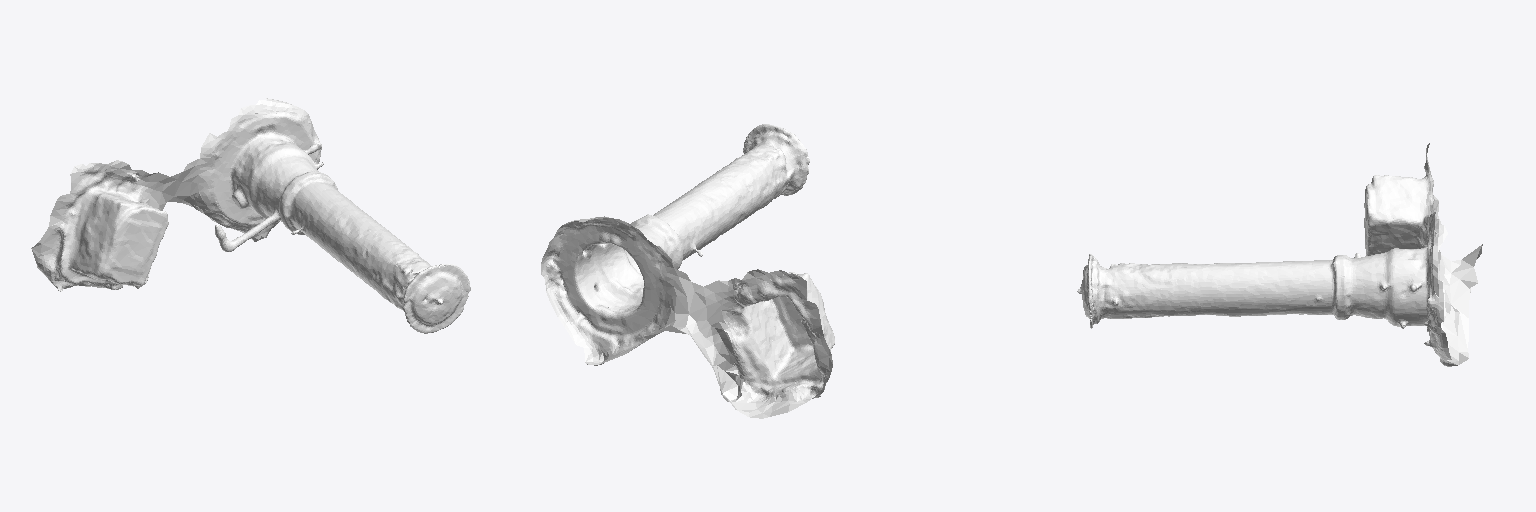
File: mod_a.obj
3 views of the same model, side by side, from view 1: azimuth 30°, elevation 25°; view 2: azimuth 150°, elevation 25°; view 3: azimuth 270°, elevation 25° (orthographic).
Bounding box in the file's own units: 2.03 × 1.04 × 2.46.